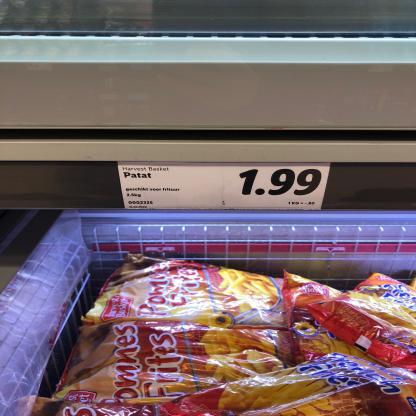prtg: (119, 162, 332, 211)
